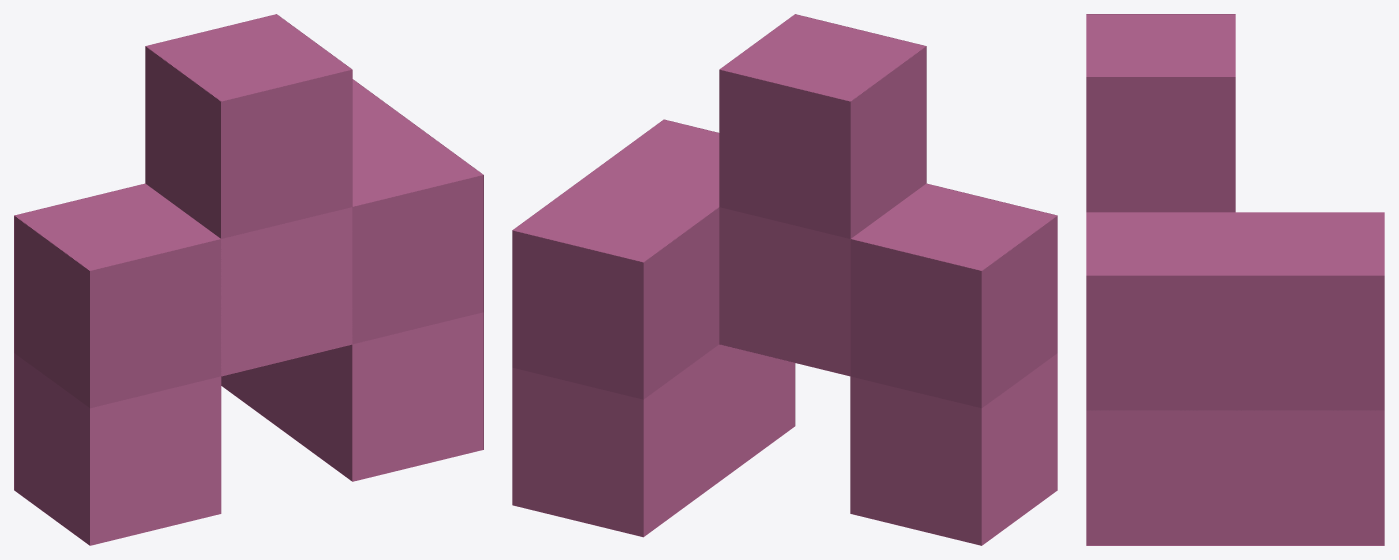
File: FaeWing.obj
3 views of the same model, side by side, from view 1: azimuth 30°, elevation 25°; view 2: azimuth 150°, elevation 25°; view 3: azimuth 270°, elevation 25° (orthographic).
Visible parts, largest first — view 1: FaeWing; view 2: FaeWing; view 3: FaeWing.
Boxes of the visible parts, box(x1,y1,x2,y2) form: FaeWing: box(14, 14, 483, 545); FaeWing: box(512, 14, 1057, 545); FaeWing: box(1086, 14, 1384, 545).
Size of the model in its own units: 3 by 3 by 2.
1 material, 1 textured.
